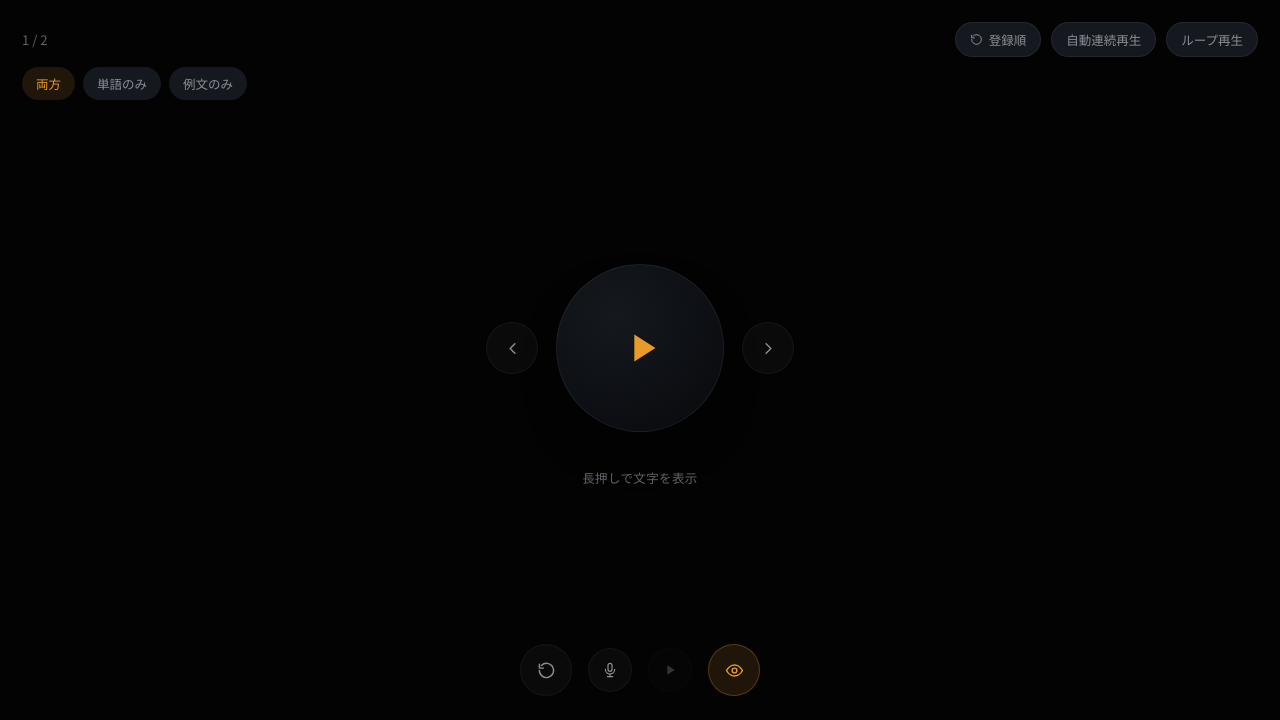
recording (聞く画面) › moving to another card discards the recording
Click the button named "発音を録音": point(610, 670) x1=588 y1=648 x2=632 y2=692
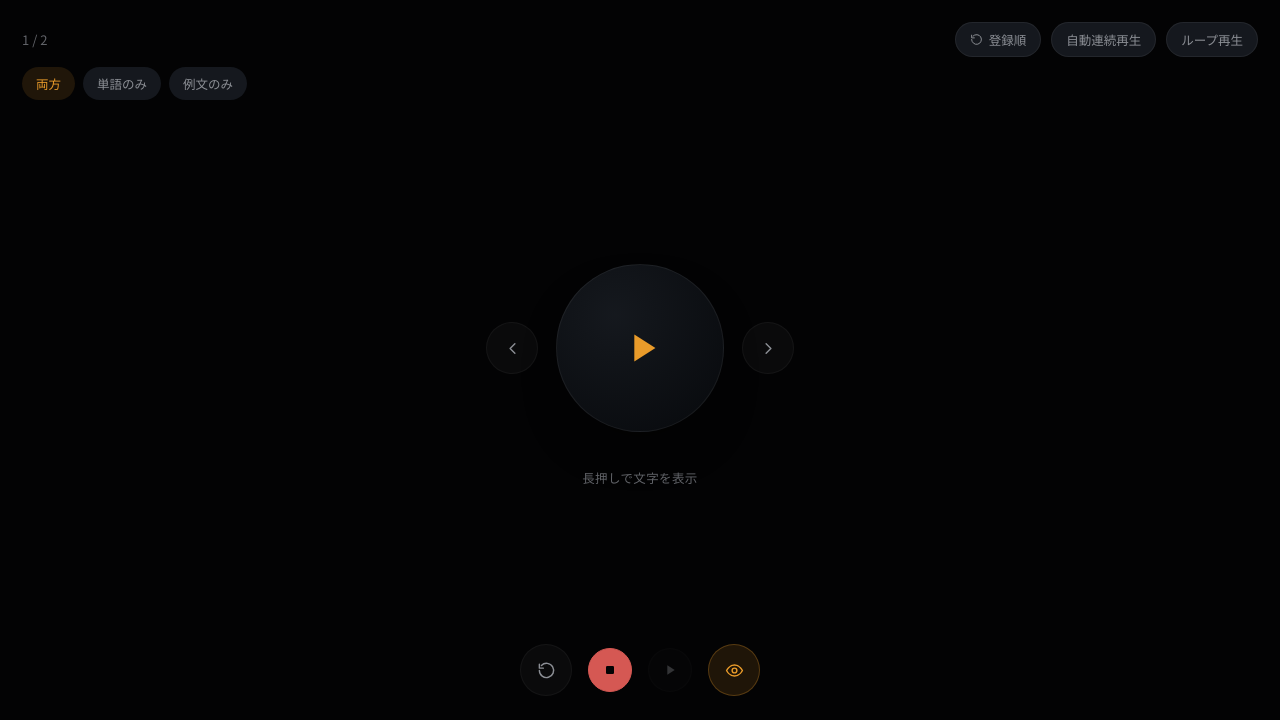
Expected: the button named "録音を停止" is shown
Click the button named "録音を停止": point(610, 670) x1=588 y1=648 x2=632 y2=692
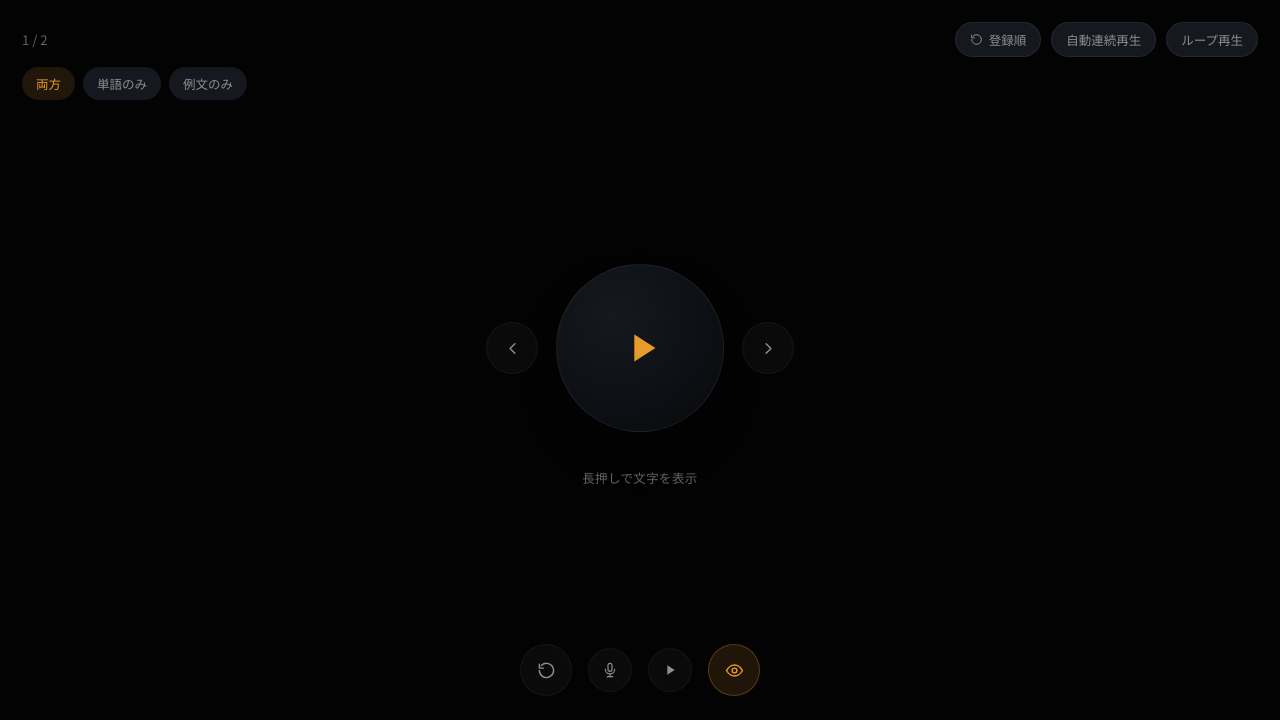
Expected: the button named "録音を再生" is enabled, x1=648 y1=648 x2=692 y2=692
Click the button named "次": point(768, 348) x1=742 y1=322 x2=794 y2=374
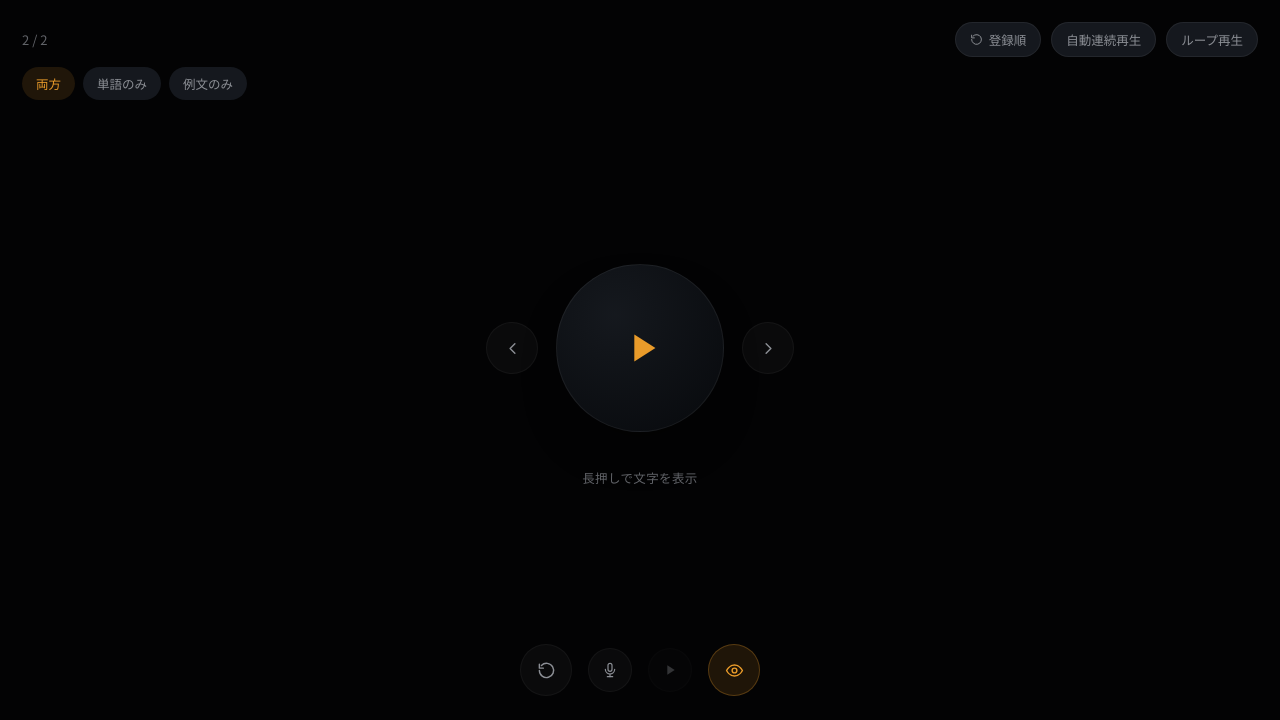
Expected: the button named "録音を再生" is disabled, x1=648 y1=648 x2=692 y2=692
